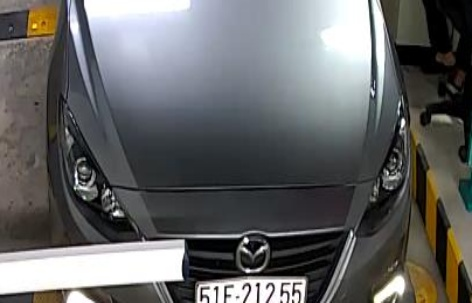plate: (193, 278, 306, 303)
